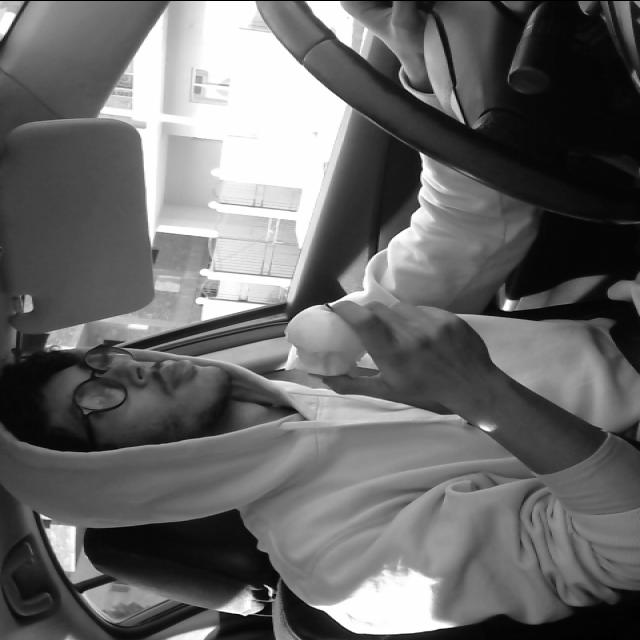eating: (272, 296, 374, 382)
